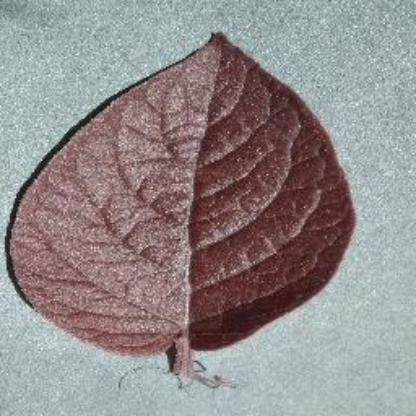Healthy-plant: (6, 27, 364, 394)
